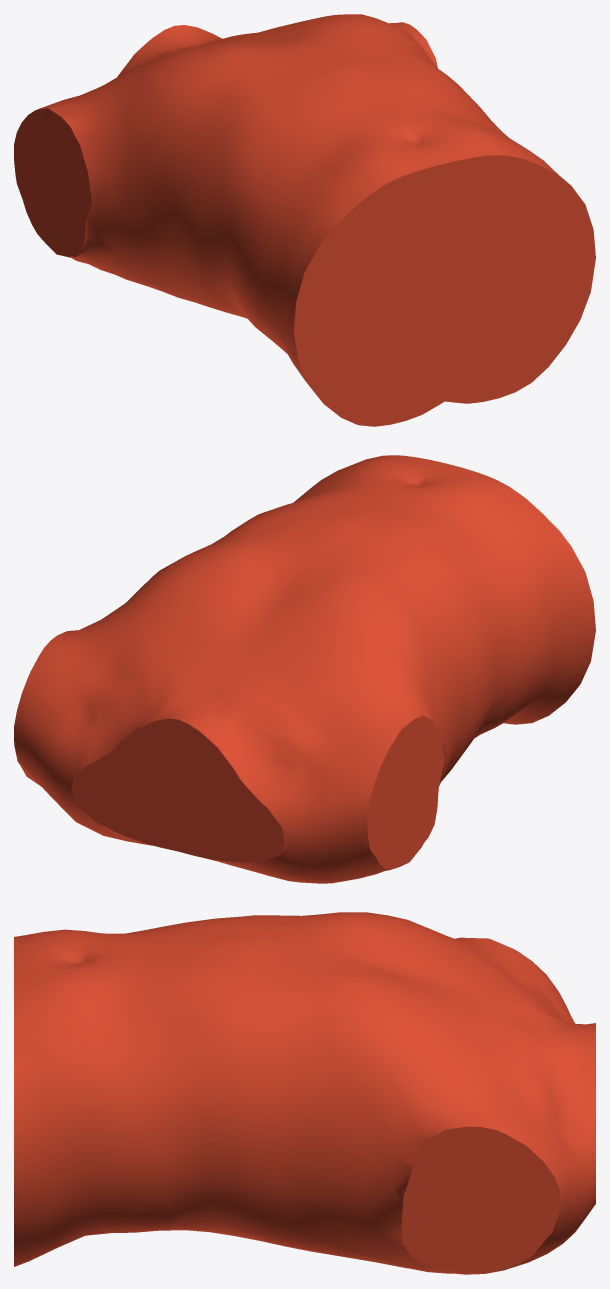
The model's file is Dummy.FBX.
3 views of the same model, one above another, from view 1: azimuth 30°, elevation 25°; view 2: azimuth 150°, elevation 25°; view 3: azimuth 270°, elevation 25° (orthographic). The views are drawn at different scales.
Parts seen in each view (by area): view 1: Dummy; view 2: Dummy; view 3: Dummy.
Part boxes in pixels (left/top/right/bottom): Dummy: left=14, top=14, right=595, bottom=426; Dummy: left=14, top=455, right=595, bottom=883; Dummy: left=14, top=912, right=595, bottom=1274.
Bounding box in the file's own units: 36.85 × 26.32 × 48.26.
